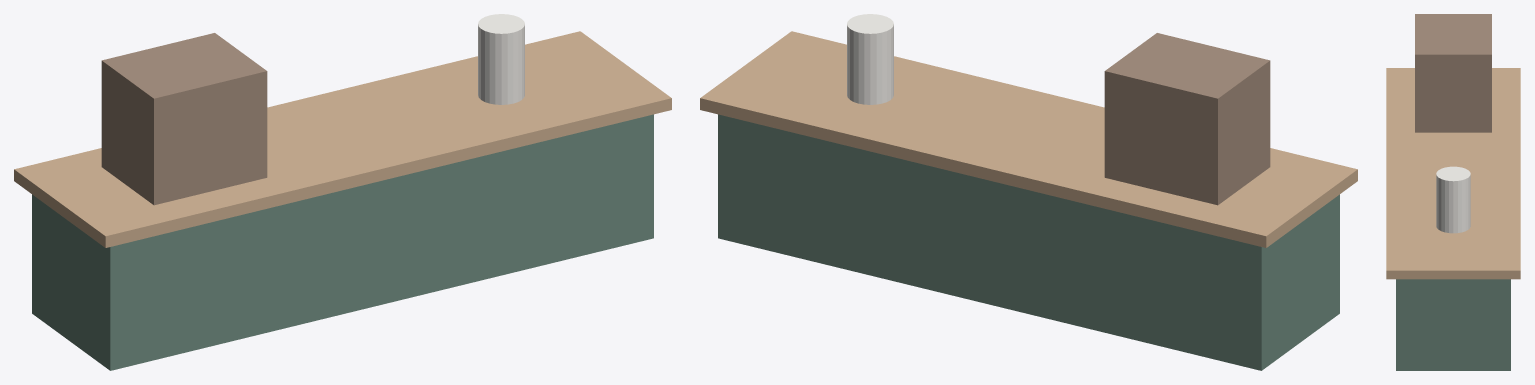
The model's file is sibol-counter.glb.
3 renders of one model, left to right at view 1: azimuth 30°, elevation 25°; view 2: azimuth 150°, elevation 25°; view 3: azimuth 270°, elevation 25°, orthographic. The views are drawn at different scales.
Parts seen in each view (by area): view 1: SibolCounter; view 2: SibolCounter; view 3: SibolCounter.
Boxes of the visible parts, x1,y1,x2,y2 form: SibolCounter: [14, 14, 671, 370]; SibolCounter: [700, 14, 1357, 370]; SibolCounter: [1386, 14, 1520, 370].
Size of the model in its own units: 2.5 by 1.05 by 0.7.
